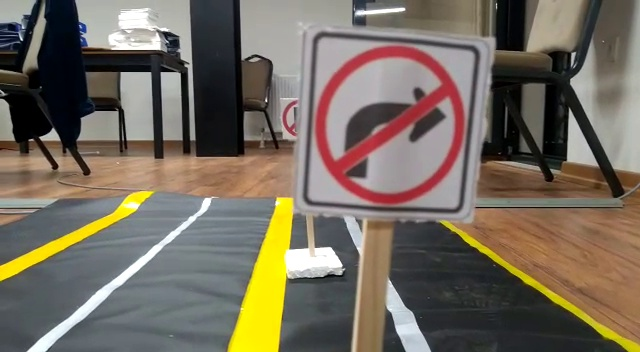saga_donulmez: (308, 32, 467, 211)
